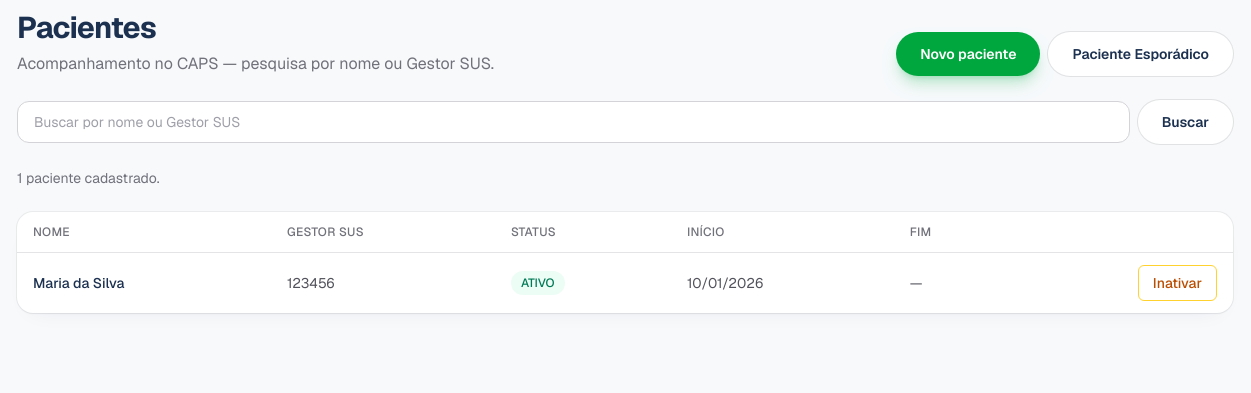
Test case: PacientesView — interações › exibe erro amigável quando a alteração de status falha
Click the button "Inativar" at (1177, 283), box [1138,265,1217,301]
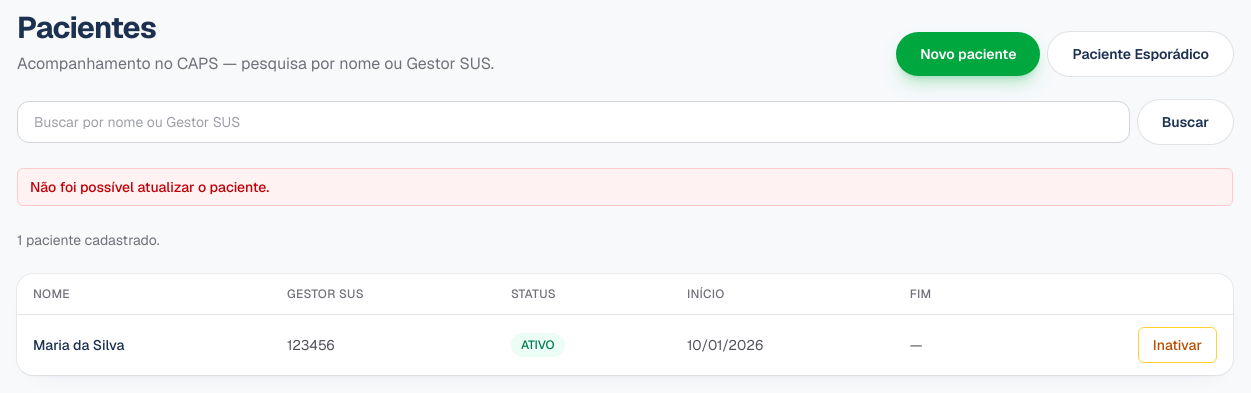
Check: the message reads "Não foi possível atualizar o paciente.", box [30,178,269,196]
